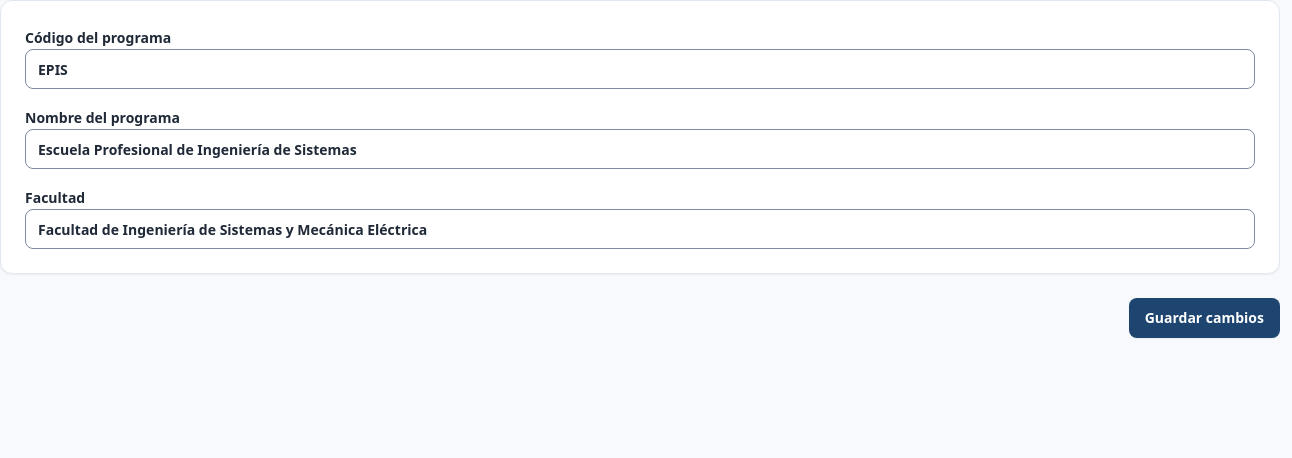
ProgramForm component (HU-009, T-009-17, CA1, CA2) › sends only modified fields when saving (D6, CA2)
Replace the text in the field labelled "Nombre del programa" with "Ingeniería de Sistemas" at [640, 149], box [25, 129, 1255, 169]
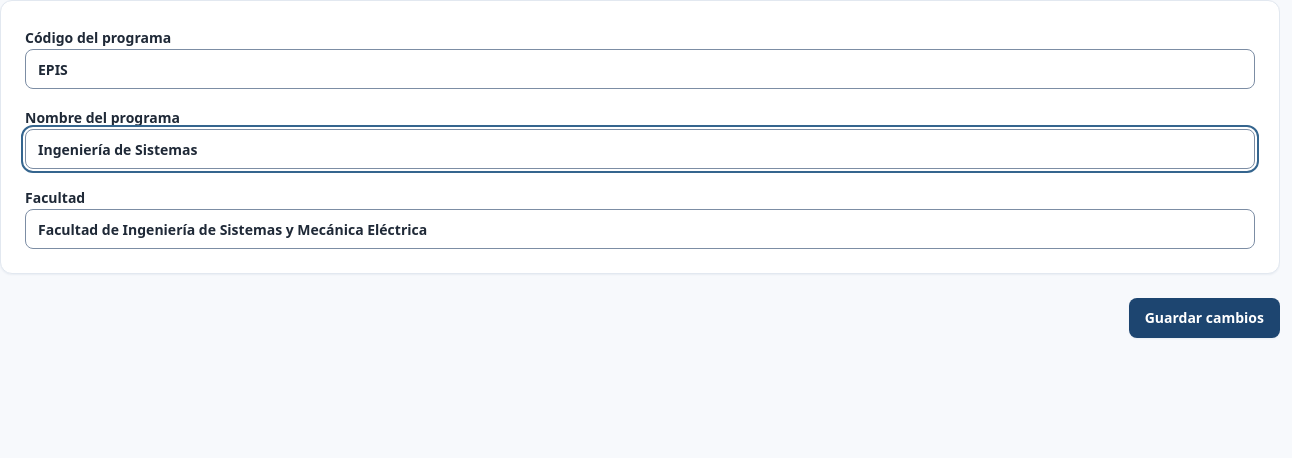
Click the button "Guardar cambios" at [1204, 318], box [1129, 298, 1280, 338]
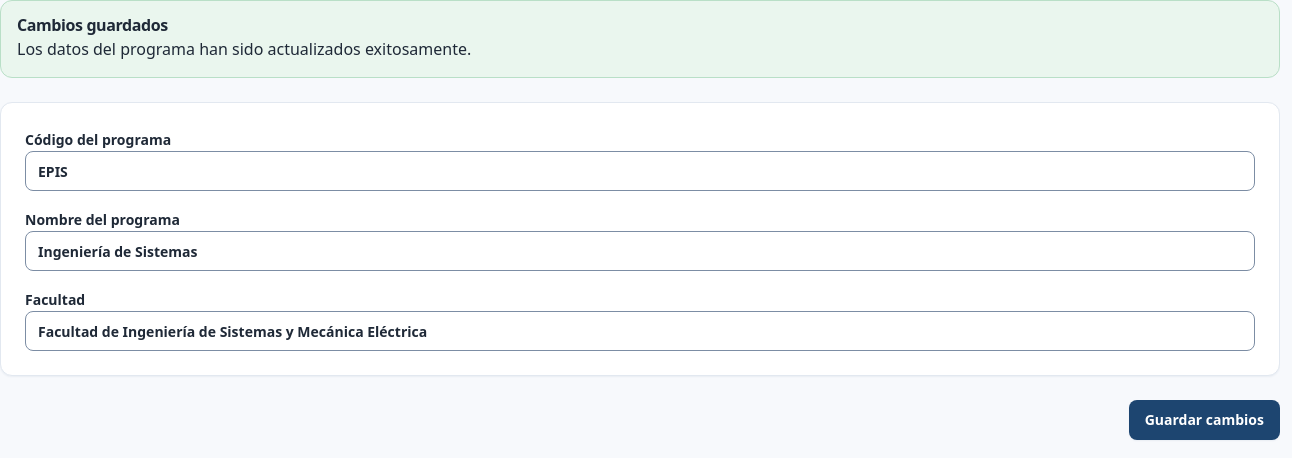
Result: the text "Los datos del programa han sido actualizados exitosamente." is shown at [17, 38, 471, 60]
